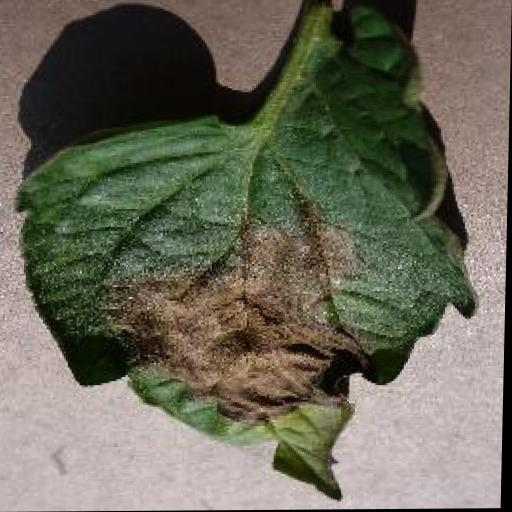Late Blight: (10, 0, 485, 504)
